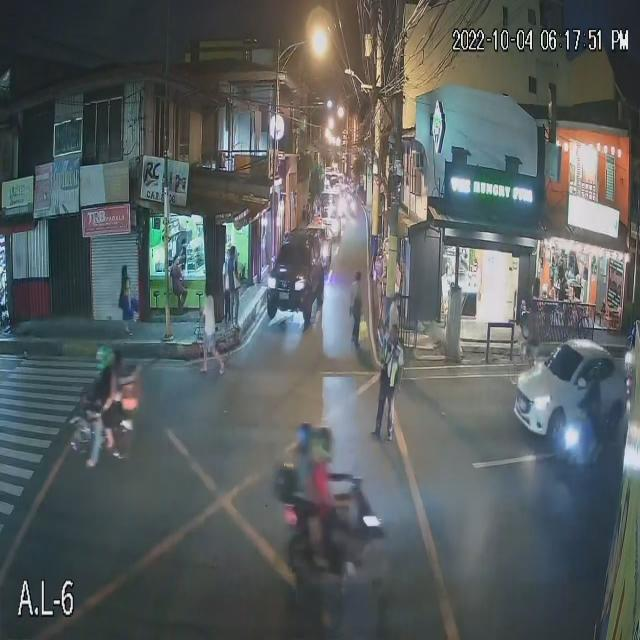helmet: (98, 349, 115, 366), (316, 433, 332, 451), (295, 425, 307, 443)
motorcycle: (272, 514, 384, 579), (66, 407, 135, 461)
rider: (290, 455, 308, 526), (314, 456, 331, 528), (99, 372, 113, 425)
